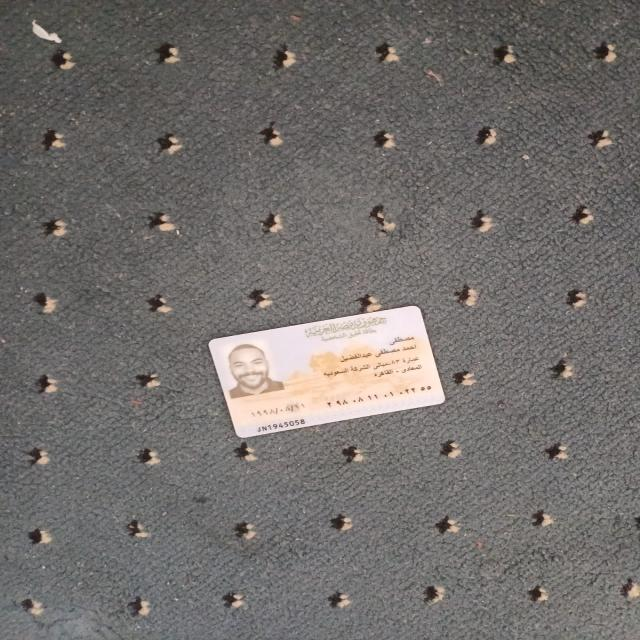ID-cards: (205, 299, 455, 449)
